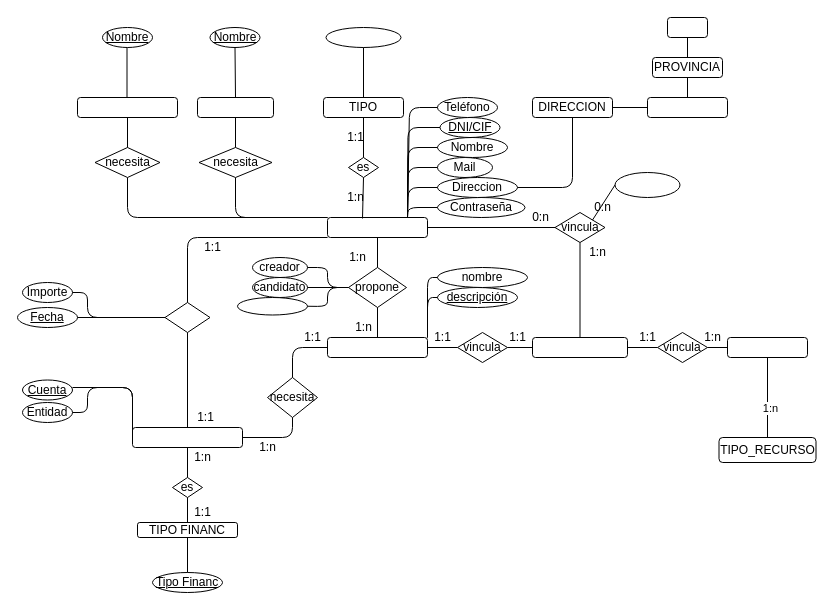
This 834x610 diagram has some shape labels left out. Here are the shapes that lost their labels. From the top down, the centre of each, then its label:
the point at 363,37: Tipo Usuario
the point at 687,27: PAIS
the point at 127,107: CONOCIMIENTO
the point at 235,107: APTITUD
the point at 687,107: LOCALIDAD
the point at 647,185: porcentaje
the point at 377,227: USUARIO
the point at 187,317: ofrece
the point at 272,305: participante
the point at 377,347: PROYECTO
the point at 580,347: INVENTARIO
the point at 767,347: RECURSO
the point at 187,437: FINANCIACIÓN
